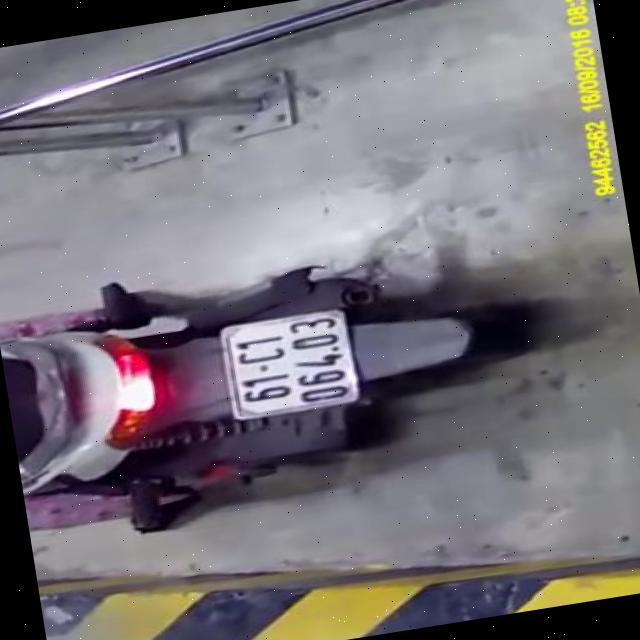license_plate: (218, 304, 362, 423)
